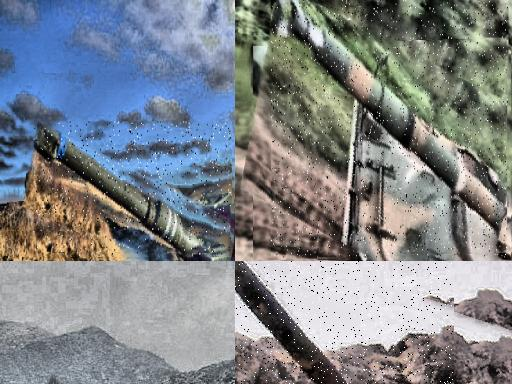tanks: (273, 1, 509, 258), (35, 123, 232, 257), (236, 262, 349, 384), (153, 259, 171, 262)
